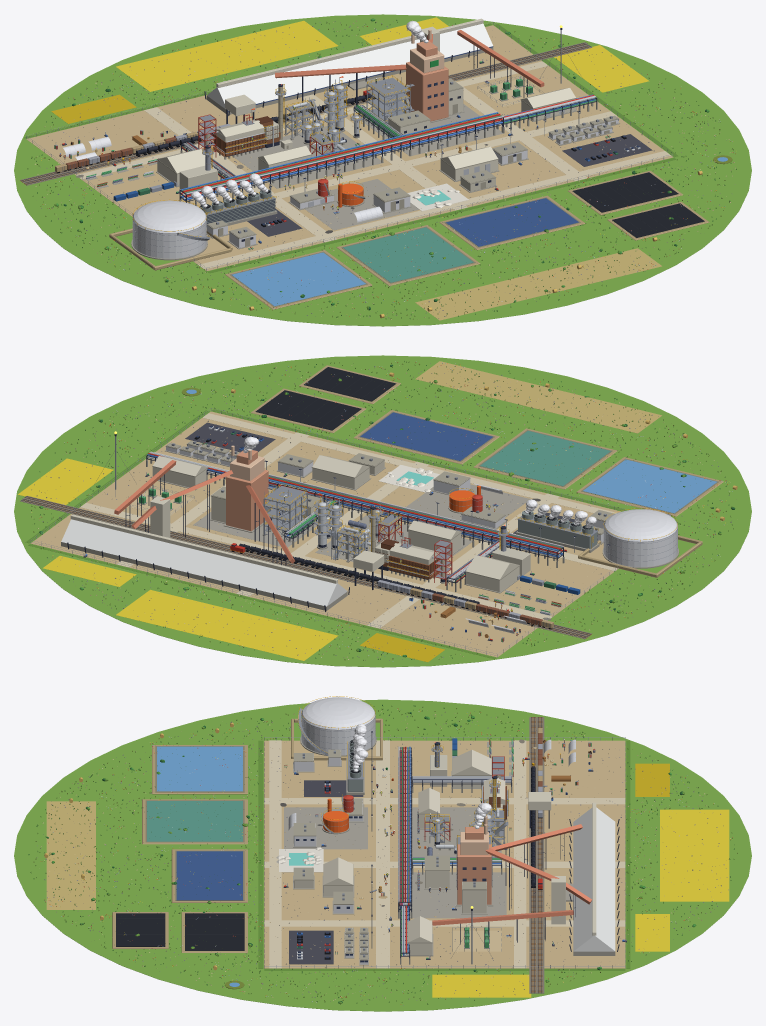
The model's file is carseland.glb.
The picture shows the model from 3 angles, top to bottom: view 1: azimuth 30°, elevation 25°; view 2: azimuth 150°, elevation 25°; view 3: azimuth 270°, elevation 25°; orthographic projection.
Visible parts, largest first — view 1: carseland_fieldGreen, carseland_gravel, carseland_road, carseland_canola, carseland_concrete, carseland_corrugated, carseland_galvanized, carseland_tube, carseland_stubble2, carseland_roofWhite, carseland_steelDark, carseland_berm (+34 smaller); view 2: carseland_fieldGreen, carseland_gravel, carseland_canola, carseland_corrugated, carseland_road, carseland_roofWhite, carseland_concrete, carseland_galvanized, carseland_tube, carseland_stubble2, carseland_steelDark, carseland_berm (+34 smaller); view 3: carseland_fieldGreen, carseland_gravel, carseland_road, carseland_canola, carseland_concrete, carseland_corrugated, carseland_roofWhite, carseland_stubble2, carseland_tube, carseland_galvanized, carseland_fieldDark, carseland_water (+28 smaller).
Boxes of the visible parts, x1,y1,x2,y2 form: carseland_fieldGreen: (14, 14, 751, 326); carseland_gravel: (26, 25, 673, 270); carseland_road: (76, 61, 670, 269); carseland_canola: (41, 17, 733, 310); carseland_concrete: (86, 46, 619, 260); carseland_corrugated: (157, 18, 575, 185); carseland_galvanized: (26, 21, 673, 270); carseland_tube: (45, 24, 730, 315); carseland_stubble2: (415, 248, 661, 320); carseland_roofWhite: (207, 23, 492, 109); carseland_steelDark: (21, 28, 608, 248); carseland_berm: (109, 170, 709, 309); carseland_fieldGreen: (14, 355, 751, 667); carseland_gravel: (31, 411, 621, 657); carseland_canola: (18, 365, 727, 660); carseland_corrugated: (70, 455, 519, 592); carseland_road: (80, 413, 618, 628); carseland_roofWhite: (61, 519, 347, 606); carseland_concrete: (61, 444, 679, 615); carseland_galvanized: (30, 408, 677, 657); carseland_tube: (30, 361, 729, 657); carseland_stubble2: (415, 361, 662, 433); carseland_steelDark: (21, 434, 610, 641); carseland_berm: (251, 365, 723, 577); carseland_fieldGreen: (14, 699, 751, 1011); carseland_gravel: (264, 740, 625, 968); carseland_road: (264, 740, 625, 968); carseland_canola: (44, 713, 730, 997); carseland_concrete: (284, 736, 615, 965); carseland_corrugated: (323, 750, 596, 955); carseland_roofWhite: (573, 807, 615, 951); carseland_stubble2: (46, 801, 95, 909); carseland_tube: (44, 697, 730, 1005); carseland_galvanized: (264, 708, 626, 968); carseland_fieldDark: (35, 705, 734, 1005); carseland_water: (157, 746, 242, 986).
Bounding box in the file's own units: 149 × 22.08 × 149.
